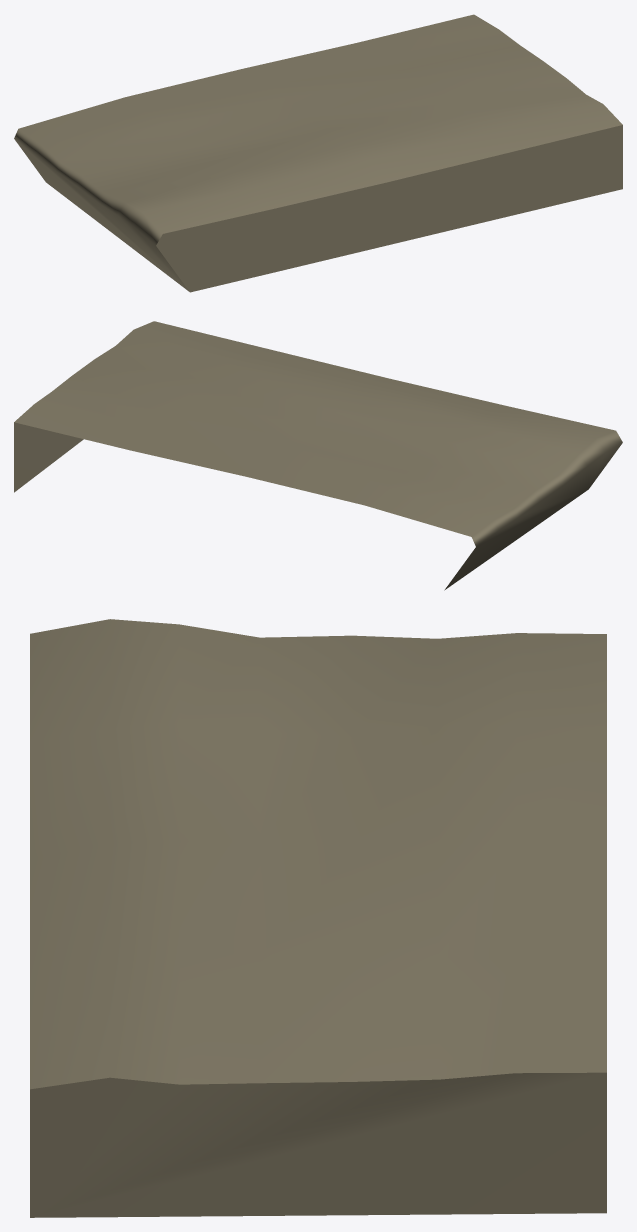
The model's file is graund_back_sand.fbx.
3 renders of one model, top to bottom at view 1: azimuth 30°, elevation 25°; view 2: azimuth 150°, elevation 25°; view 3: azimuth 270°, elevation 25°, orthographic. The views are drawn at different scales.
Visible parts, largest first — view 1: graund_back_sand; view 2: graund_back_sand; view 3: graund_back_sand.
Part boxes in pixels (x1,y1,x2,y2): graund_back_sand: [14, 14, 622, 292]; graund_back_sand: [14, 321, 622, 590]; graund_back_sand: [30, 619, 606, 1217].
Size of the model in its own units: 10.35 by 1.66 by 5.48.
